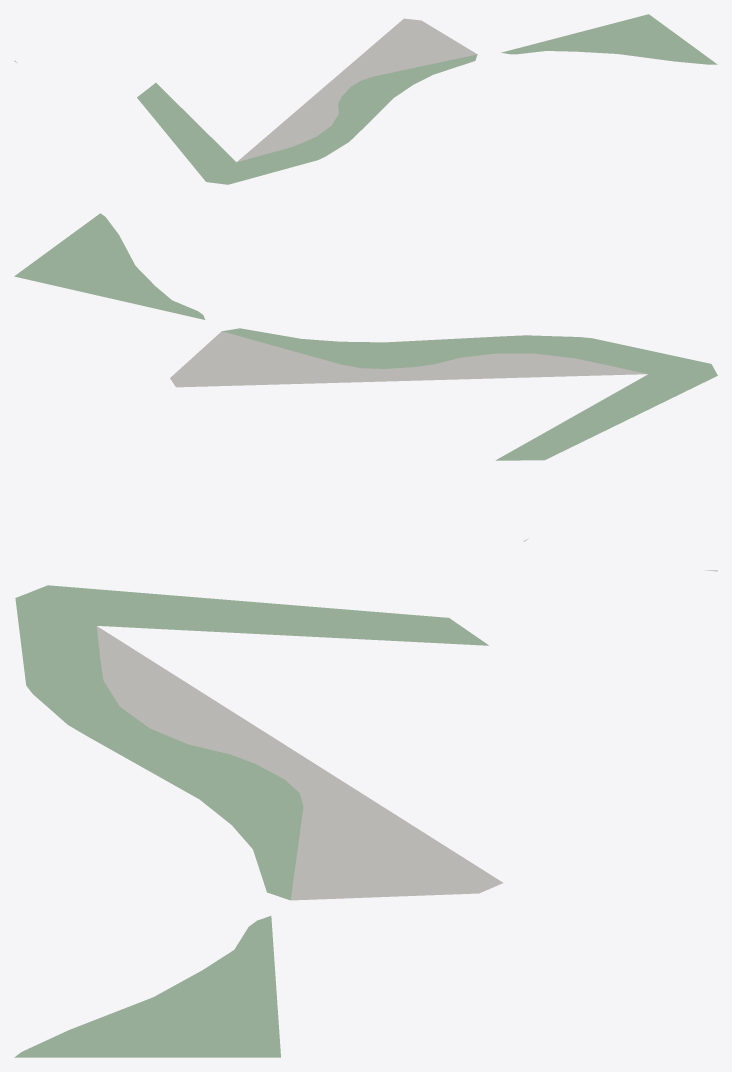
File: 126_65_mid.glb
3 renders of one model, top to bottom at view 1: azimuth 30°, elevation 25°; view 2: azimuth 150°, elevation 25°; view 3: azimuth 270°, elevation 25°, orthographic. The views are drawn at different scales.
Size of the model in its own units: 500 by 2.04 by 303.
